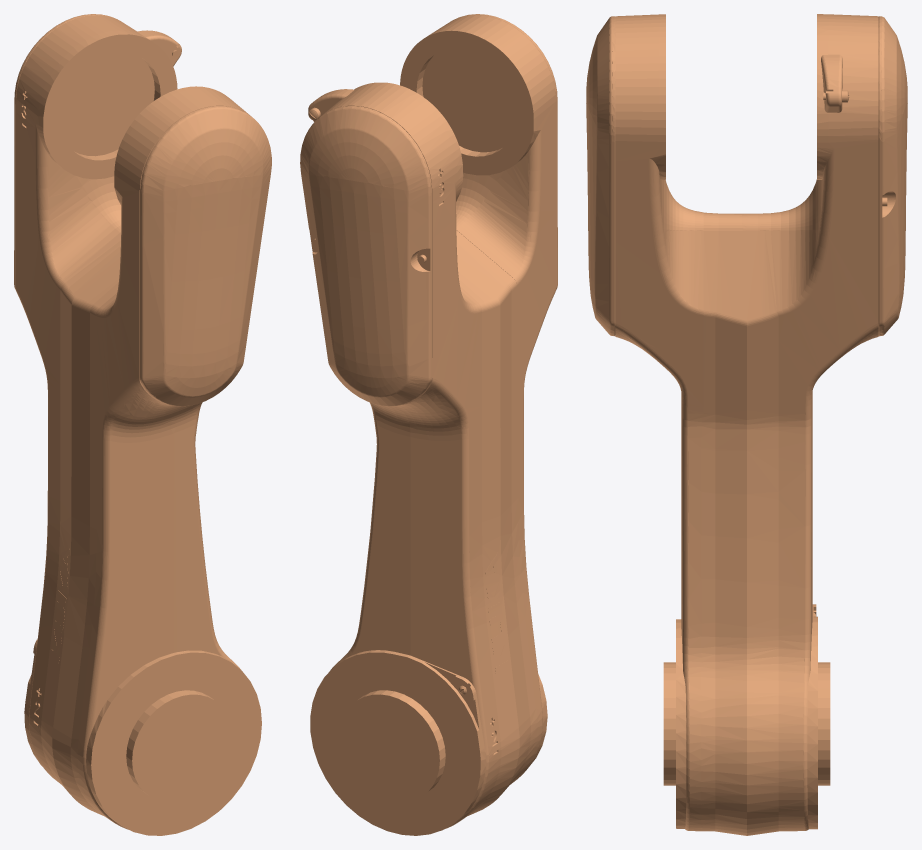
3 views of the same model, side by side, from view 1: azimuth 30°, elevation 25°; view 2: azimuth 150°, elevation 25°; view 3: azimuth 270°, elevation 25° (orthographic). The views are drawn at different scales.
Visible parts, largest first — view 1: Link2; view 2: Link2; view 3: Link2.
Boxes of the visible parts, box(x1,y1,x2,y2) form: Link2: box(14, 14, 271, 835); Link2: box(300, 14, 557, 835); Link2: box(586, 14, 907, 835).
Bounding box in the file's own units: 0.1809 × 0.2601 × 0.7173.
